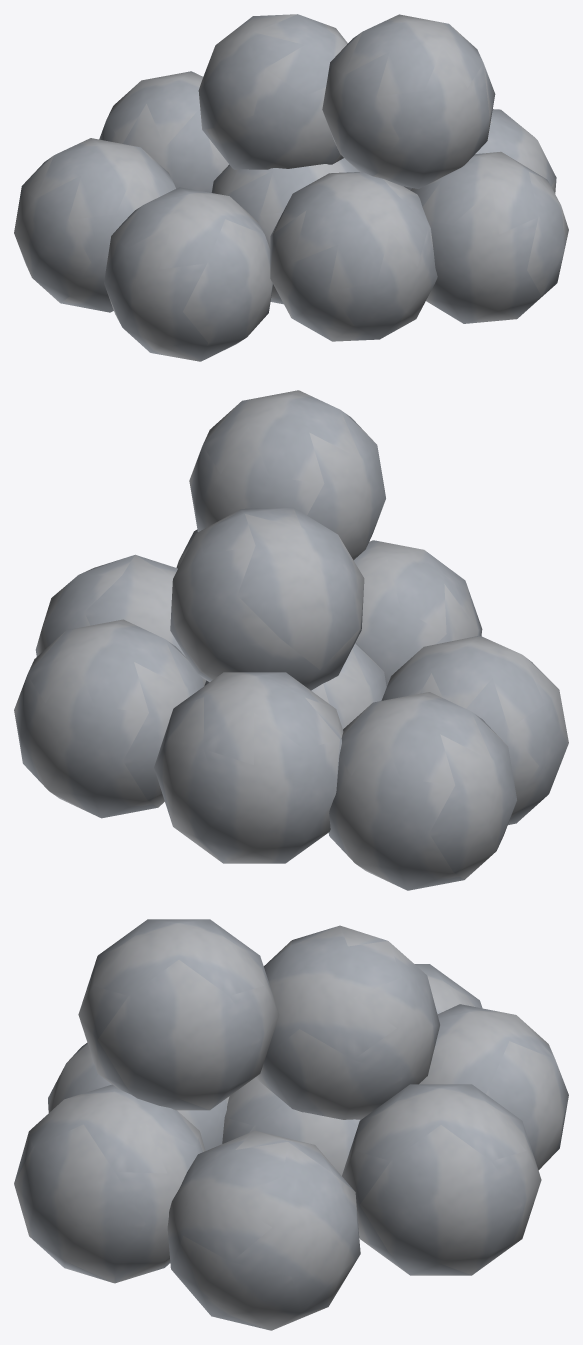
File: SnowBallPile.gltf
3 renders of one model, top to bottom at view 1: azimuth 30°, elevation 25°; view 2: azimuth 150°, elevation 25°; view 3: azimuth 270°, elevation 25°, orthographic. The views are drawn at different scales.
Visible parts, largest first — view 1: SnowBall.005; view 2: SnowBall.005; view 3: SnowBall.005.
Boxes of the visible parts, box(x1,y1,x2,y2) form: SnowBall.005: box(14, 14, 568, 361); SnowBall.005: box(14, 390, 568, 890); SnowBall.005: box(14, 919, 568, 1330).
Bounding box in the file's own units: 0.8251 × 0.5325 × 0.7643.
Materials: 1 (1 with a texture image).
